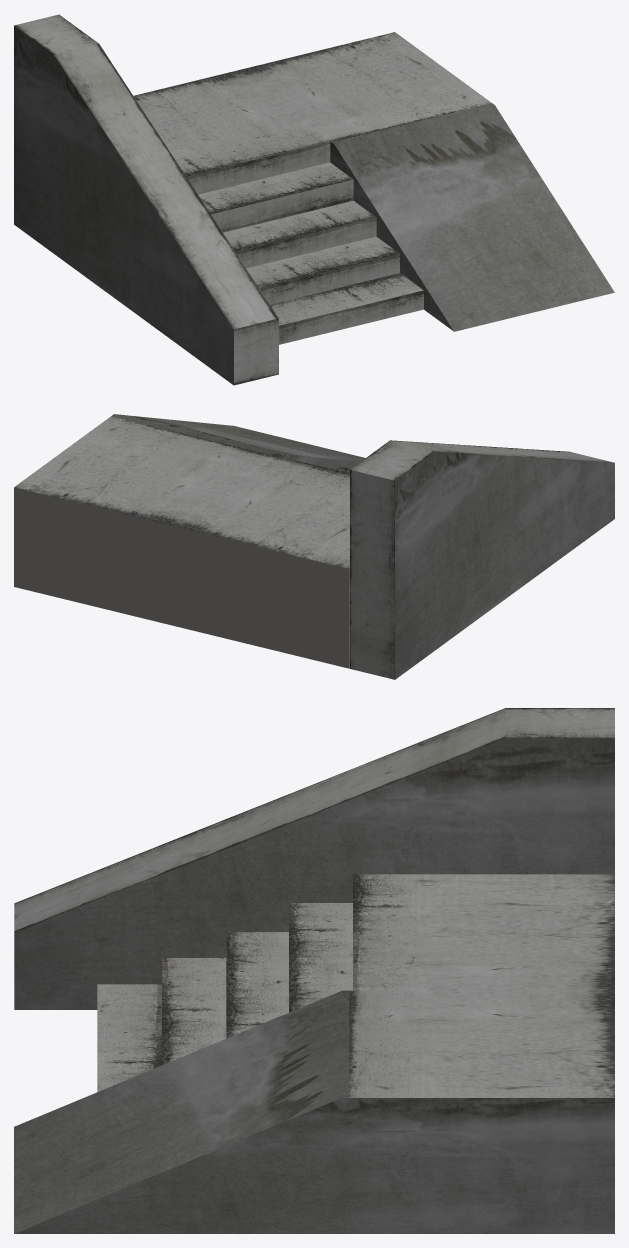
The model's file is pG_stair_01.fbx.
The picture shows the model from 3 angles, top to bottom: view 1: azimuth 30°, elevation 25°; view 2: azimuth 150°, elevation 25°; view 3: azimuth 270°, elevation 25°; orthographic projection. The views are drawn at different scales.
Visible parts, largest first — view 1: pG_stair_01; view 2: pG_stair_01; view 3: pG_stair_01.
Part boxes in pixels (x1=…): pG_stair_01: x1=14, y1=14, x2=614, y2=385; pG_stair_01: x1=14, y1=414, x2=614, y2=679; pG_stair_01: x1=14, y1=708, x2=614, y2=1233.
Bounding box in the file's own units: 200 × 99.96 × 200.
1 material, 1 textured.
